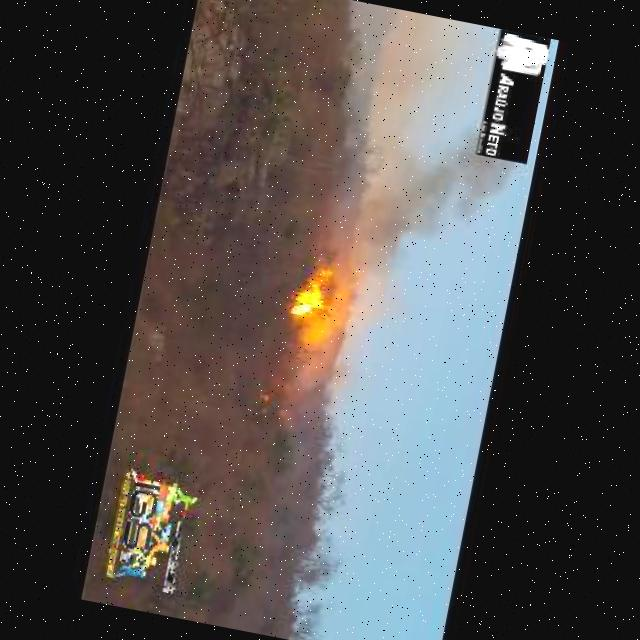fire: (290, 268, 343, 329)
